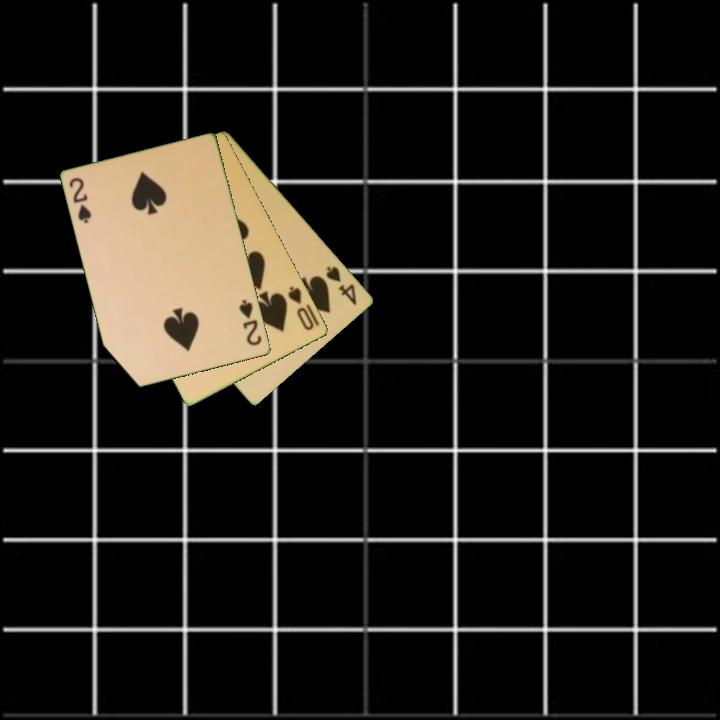10s: (285, 283, 317, 334)
2s: (236, 296, 265, 349), (66, 174, 95, 226)
4s: (323, 263, 360, 309)
